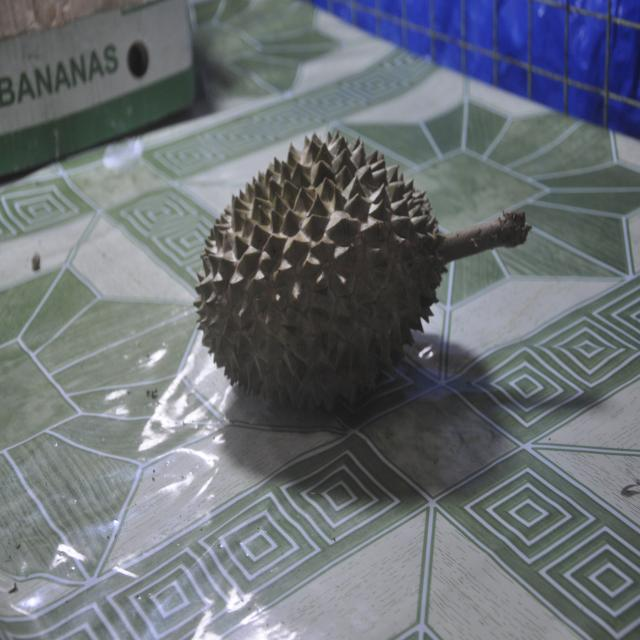mature: (194, 133, 531, 409)
